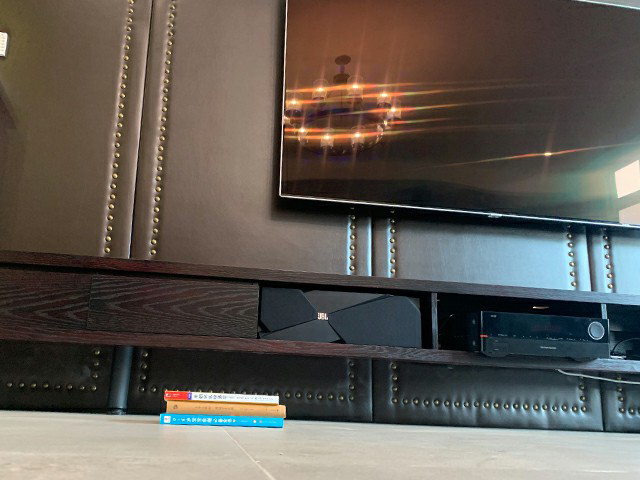book: (159, 389, 287, 429)
cabinet: (1, 251, 640, 431)
